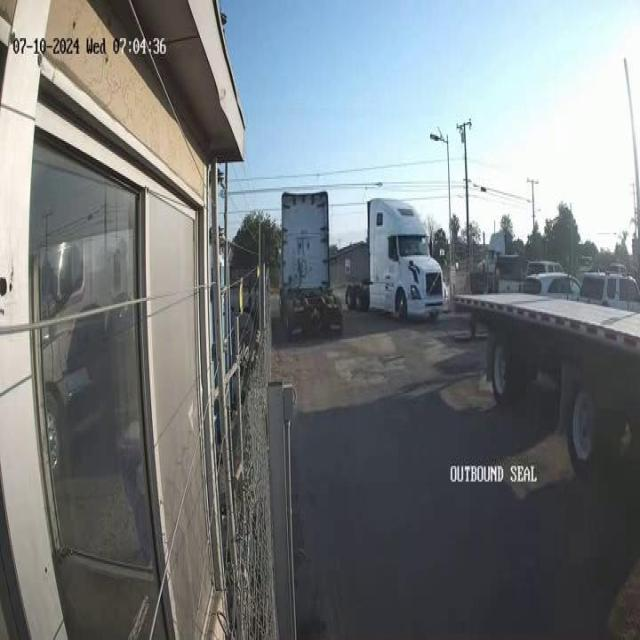BOBTAIL: (455, 288, 640, 469), (345, 196, 444, 322), (281, 183, 345, 344)
